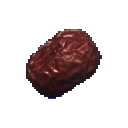gd: (10, 17, 119, 108)
